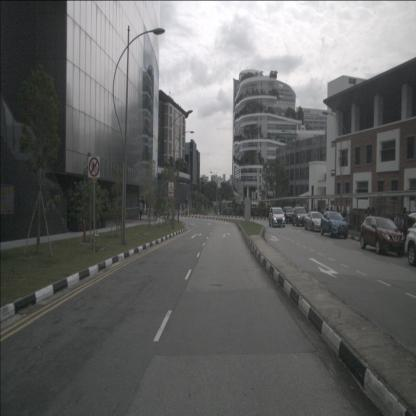human-pedestrian-adult: (139, 200, 143, 220)
vehicle-car: (360, 216, 405, 258), (320, 210, 348, 240), (404, 221, 416, 268), (304, 211, 327, 232), (292, 206, 308, 227), (269, 207, 285, 227), (282, 206, 295, 224)
